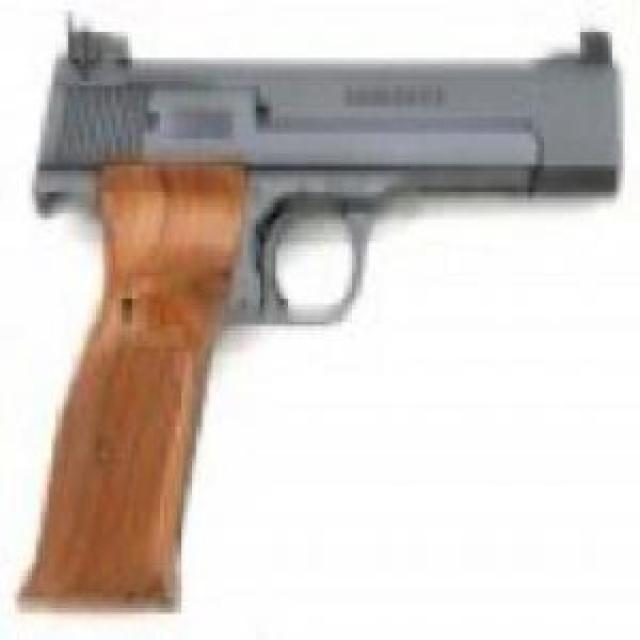pistol: (32, 21, 627, 624)
